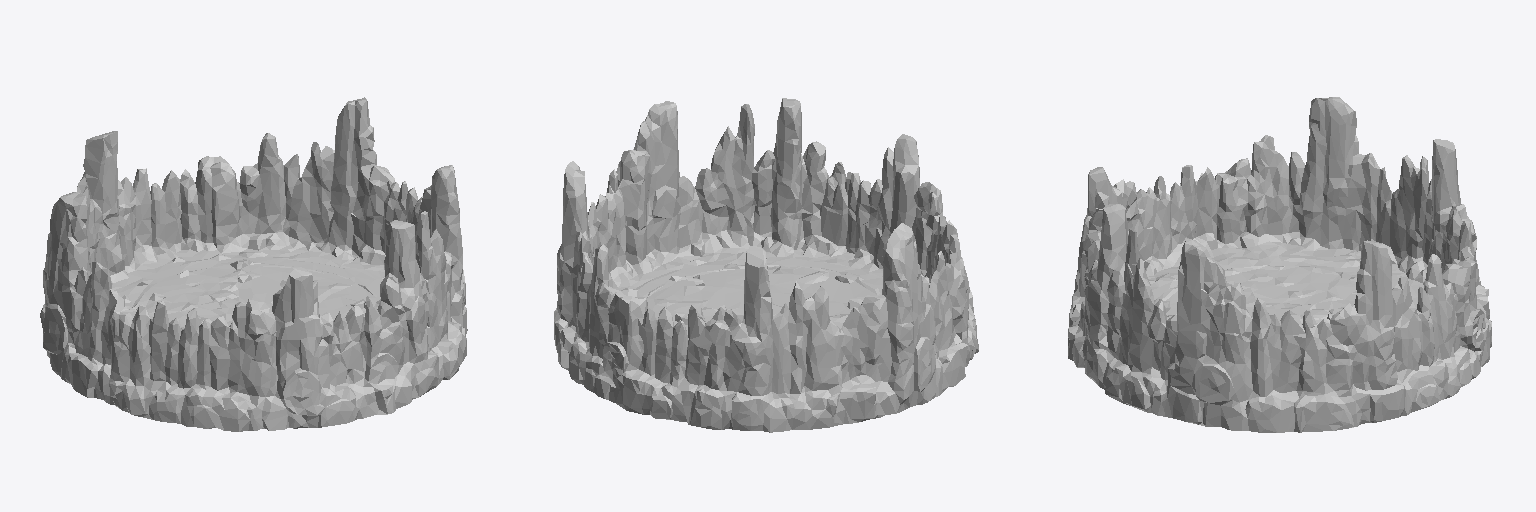
File: Stone_Circle_Arena_0611122118_texture.obj
3 renders of one model, left to right at view 1: azimuth 30°, elevation 25°; view 2: azimuth 150°, elevation 25°; view 3: azimuth 270°, elevation 25°, orthographic.
Parts seen in each view (by area): view 1: Stone_Circle_Arena_[number redacted]_texture; view 2: Stone_Circle_Arena_[number redacted]_texture; view 3: Stone_Circle_Arena_[number redacted]_texture.
Part boxes in pixels (bbox=[...]): Stone_Circle_Arena_[number redacted]_texture: bbox=[40, 97, 467, 431]; Stone_Circle_Arena_[number redacted]_texture: bbox=[554, 98, 978, 432]; Stone_Circle_Arena_[number redacted]_texture: bbox=[1068, 97, 1491, 432].
Size of the model in its own units: 2 by 0.9201 by 1.99.